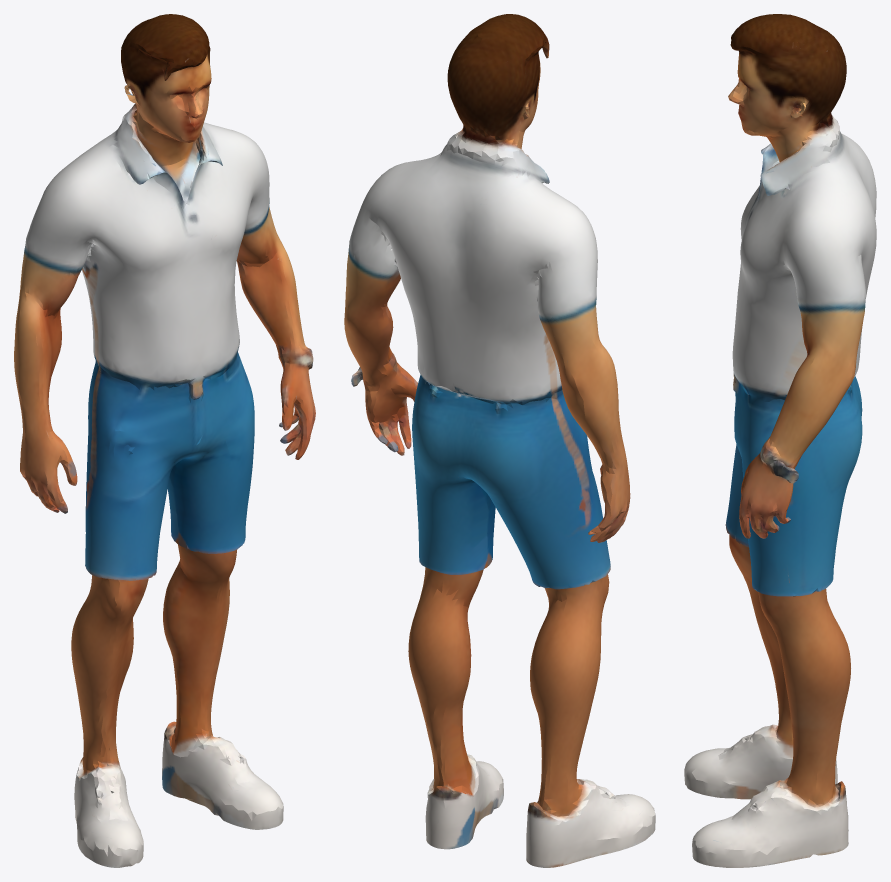
Rendered from summer_upgraded.glb.
3 renders of one model, left to right at view 1: azimuth 30°, elevation 25°; view 2: azimuth 150°, elevation 25°; view 3: azimuth 270°, elevation 25°, orthographic. The views are drawn at different scales.
Parts seen in each view (by area): view 1: summer_upgraded; view 2: summer_upgraded; view 3: summer_upgraded.
Part boxes in pixels (bbox=[...]): summer_upgraded: bbox=[14, 14, 315, 867]; summer_upgraded: bbox=[344, 14, 655, 867]; summer_upgraded: bbox=[684, 14, 876, 867].
Size of the model in its own units: 0.6887 by 1.9 by 0.4088.
Materials: 1 (1 with a texture image).
